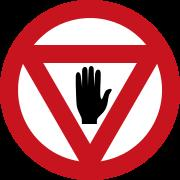Stop: (6, 12, 171, 172)
